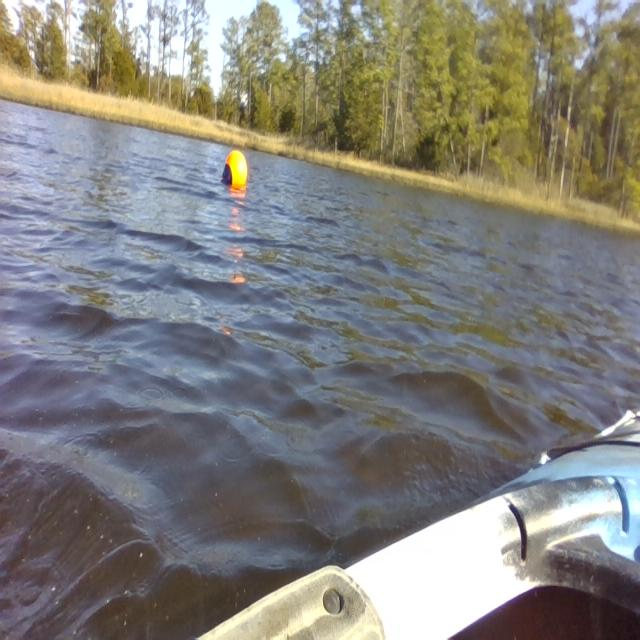Buoy: (212, 144, 254, 200)
